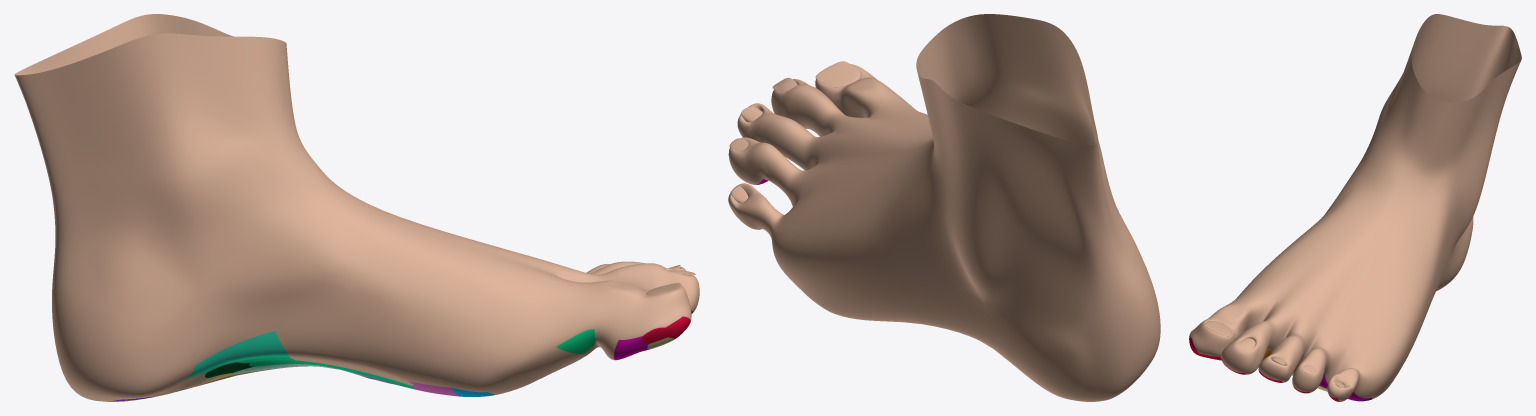
The model's file is foot3d.fbx.
3 renders of one model, left to right at view 1: azimuth 30°, elevation 25°; view 2: azimuth 150°, elevation 25°; view 3: azimuth 270°, elevation 25°, orthographic. The views are drawn at different scales.
Parts seen in each view (by area): view 1: Cube; view 2: Cube; view 3: Cube.
Boxes of the visible parts, x1,y1,x2,y2 form: Cube: (14, 14, 699, 401); Cube: (728, 14, 1160, 401); Cube: (1189, 14, 1521, 401).
Size of the model in its own units: 3.12 by 2.15 by 2.32.
